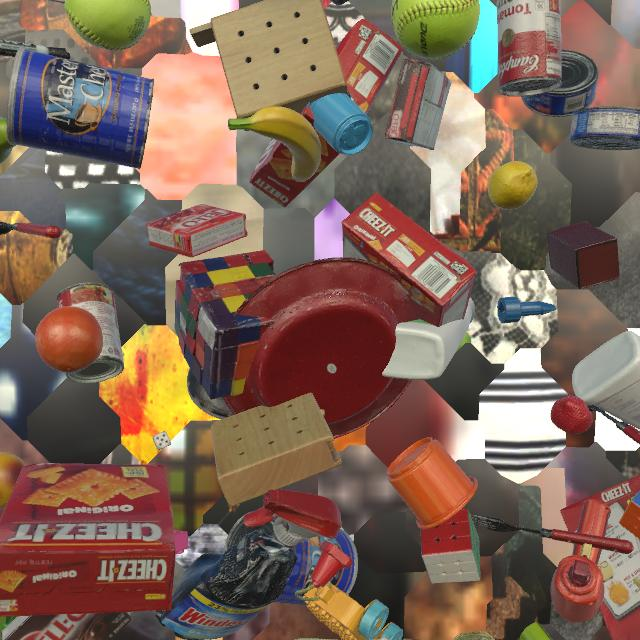ycb_002_master_chef_can: (6, 47, 154, 170), (223, 511, 358, 606), (49, 0, 65, 4)
ycb_003_cracker_box: (249, 19, 403, 208), (0, 463, 176, 617), (342, 193, 476, 327), (560, 475, 640, 640)
ycb_005_tomato_soup_can: (56, 282, 124, 383), (497, 0, 562, 97)
ycb_007_tuna_fish_can: (521, 50, 599, 117), (569, 106, 640, 150)
ycb_008_pudding_box: (384, 58, 452, 150), (0, 612, 133, 640)
ycb_009_gelatin_box: (146, 204, 247, 258)
ycb_010_potted_meat_can: (454, 631, 495, 640), (330, 0, 349, 6)
ycb_011_banana: (228, 106, 321, 182)
ycb_012_strawberry: (551, 396, 593, 435)
ycb_014_lemon: (488, 161, 538, 210)
ycb_015_peach: (0, 452, 26, 508)
ycb_016_pear: (0, 116, 15, 164)
ycb_017_orange: (35, 306, 103, 373)
